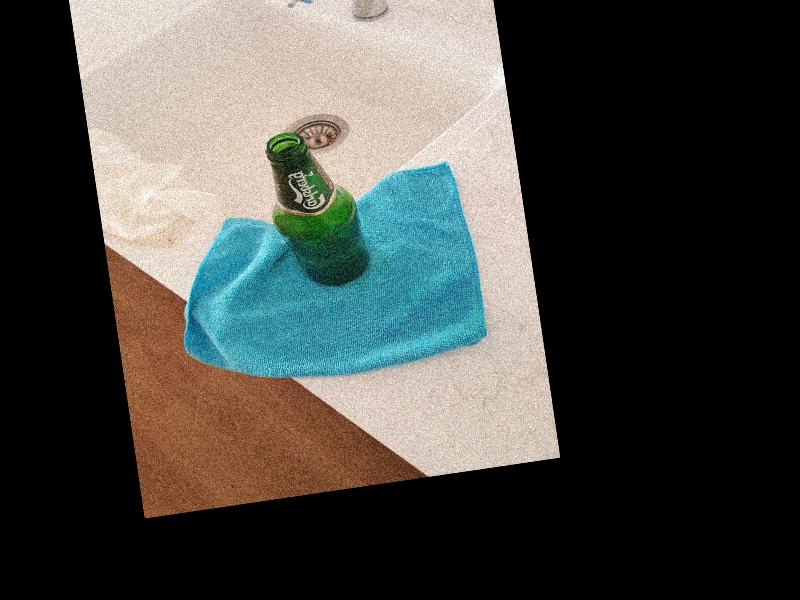Beer: (260, 125, 370, 295)
